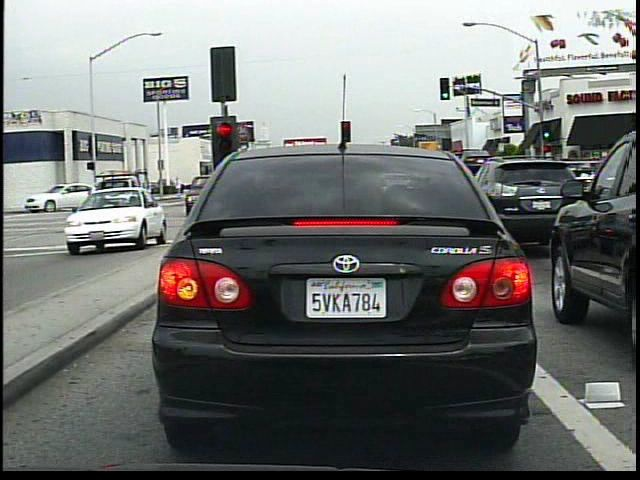person: (175, 176, 184, 196)
